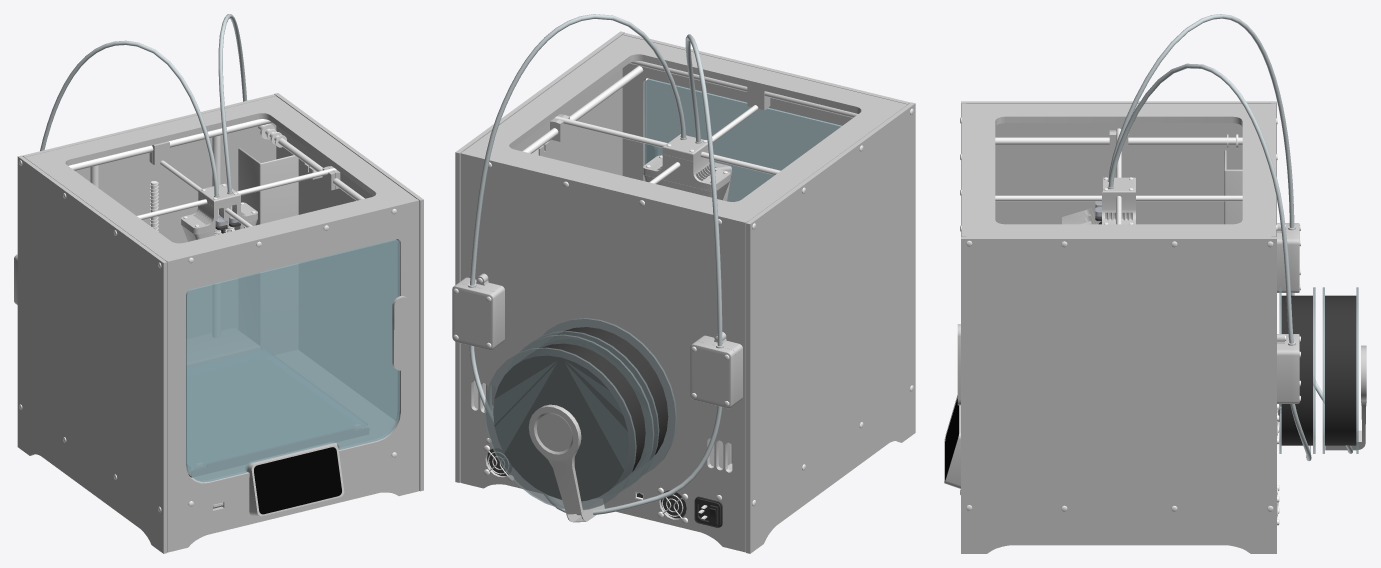
File: Ultimaker S3 Internal Test 1.fbx
3 renders of one model, left to right at view 1: azimuth 30°, elevation 25°; view 2: azimuth 150°, elevation 25°; view 3: azimuth 270°, elevation 25°, orthographic. The views are drawn at different scales.
Visible parts, largest first — view 1: RightPanel, GlassPanel, FrontPanel, LeftPanel, TopBase, BackPanel, BackSupport, DisplayPanel, BottomBase, DoubleCylinder.001, PrinterHead1, Cube (+6 smaller); view 2: BackPanel, RightPanel, Circle.008, TopBase, GlassPanel, LeftPanel, Circle.010, FrontPanel, Circle.017, Tube1, PrinterHead1, Tube2 (+9 smaller); view 3: LeftPanel, RightPanel, TopBase, Circle.008, Circle.010, Tube2, Tube1, DoubleCylinder.001, Cube.011, PrinterHead1, DisplayPanel, FeederL1 (+8 smaller).
Part boxes in pixels (x1,y1,x2,y2): RightPanel: (17, 155, 167, 553); GlassPanel: (186, 239, 410, 482); FrontPanel: (165, 199, 419, 552); LeftPanel: (274, 93, 423, 491); TopBase: (25, 96, 416, 260); BackPanel: (22, 94, 276, 338); BackSupport: (238, 147, 298, 354); DisplayPanel: (247, 443, 344, 516); BottomBase: (190, 350, 395, 481); DoubleCylinder.001: (69, 119, 364, 200); PrinterHead1: (181, 183, 257, 241); Cube: (186, 328, 259, 367); BackPanel: (460, 151, 747, 552); RightPanel: (746, 102, 915, 553); Circle.008: (484, 334, 654, 509); TopBase: (464, 35, 907, 221); GlassPanel: (644, 78, 841, 201); LeftPanel: (455, 31, 624, 482); Circle.010: (523, 318, 676, 488); FrontPanel: (622, 33, 910, 181); Circle.017: (528, 404, 604, 522); Tube1: (543, 34, 722, 515); PrinterHead1: (643, 134, 730, 200); Tube2: (469, 14, 685, 424); LeftPanel: (961, 237, 1276, 553); RightPanel: (961, 101, 1276, 236); TopBase: (966, 104, 1271, 236); Circle.008: (1322, 287, 1358, 453); Circle.010: (1279, 287, 1315, 453); Tube2: (1108, 63, 1311, 460); Tube1: (1108, 14, 1352, 453); DoubleCylinder.001: (995, 134, 1242, 148); Cube.011: (995, 195, 1242, 201); PrinterHead1: (1102, 177, 1135, 224); DisplayPanel: (944, 395, 960, 488); FeederL1: (1277, 334, 1291, 403).
Size of the model in its own units: 41.7 by 62.16 by 53.7.
